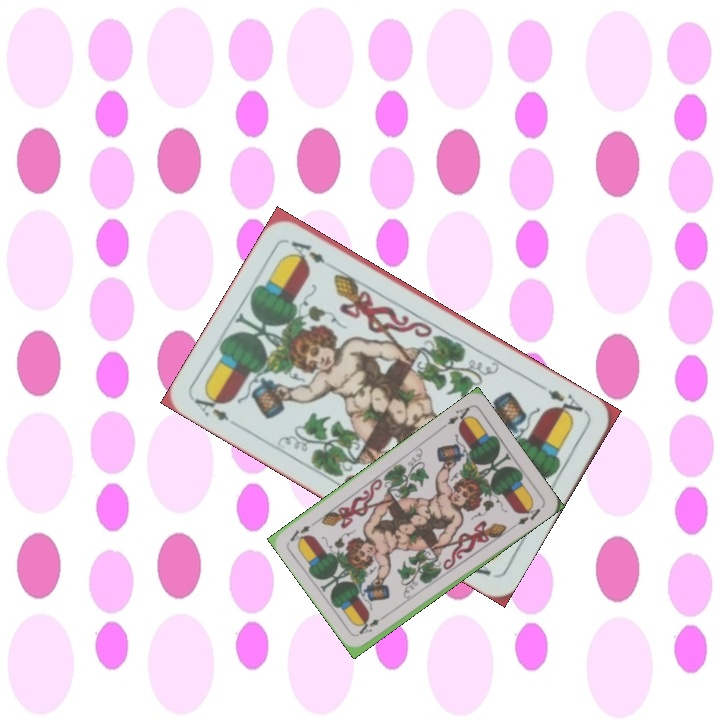EA: (190, 388, 244, 431), (543, 385, 590, 422), (438, 403, 475, 431), (355, 610, 390, 637)
